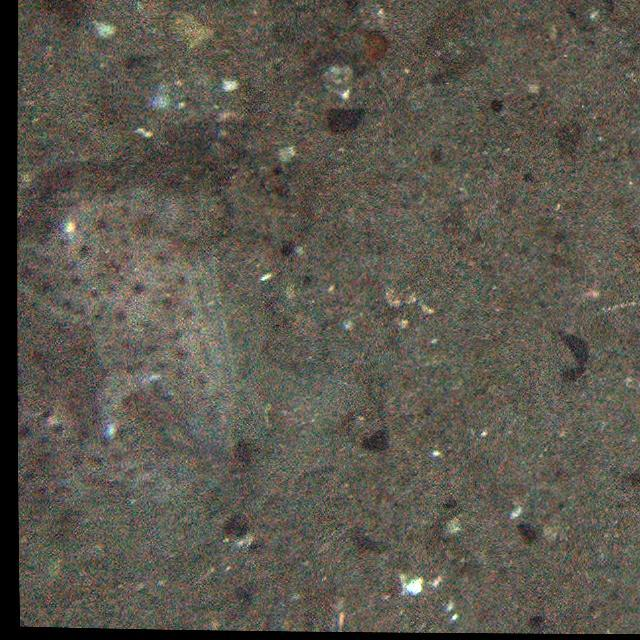skate: (22, 147, 258, 462)
